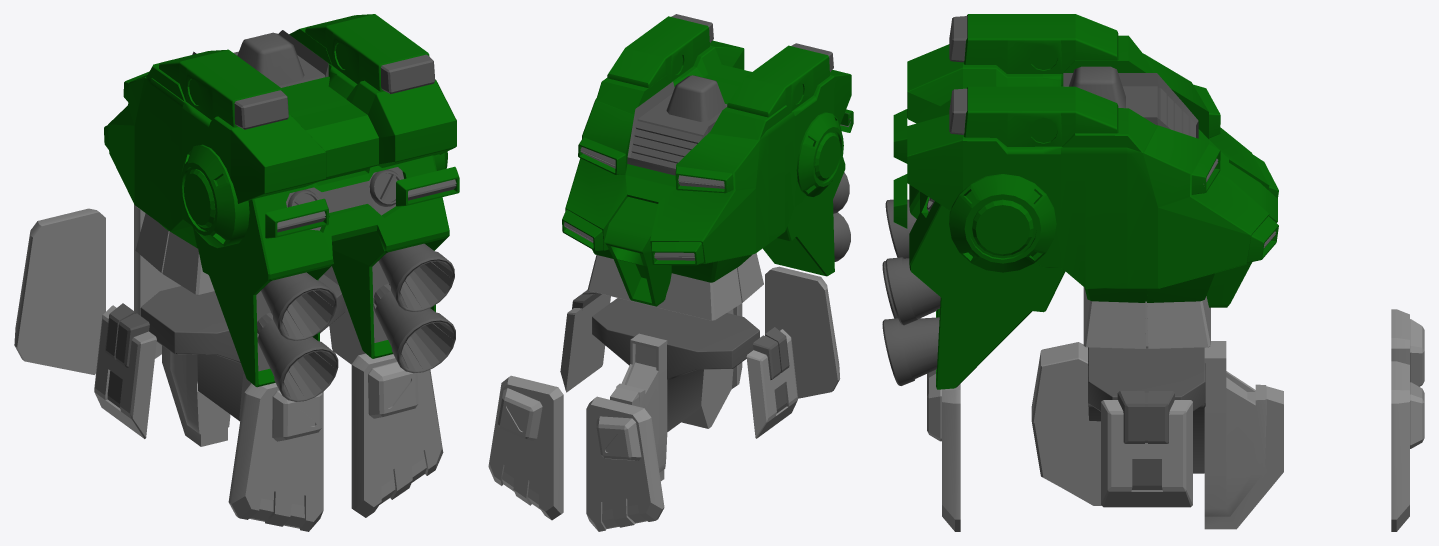
Rendered from Cardigan Torso V2.fbx.
The picture shows the model from 3 angles, left to right: view 1: azimuth 30°, elevation 25°; view 2: azimuth 150°, elevation 25°; view 3: azimuth 270°, elevation 25°; orthographic projection. The views are drawn at different scales.
Parts seen in each view (by area): view 1: polySurface358, polySurface324, polySurface331, polySurface334, polySurface275, polySurface327, polySurface277, polySurface342, polySurface341, polySurface323, polySurface328; view 2: polySurface358, polySurface275, polySurface324, polySurface323, polySurface331, polySurface327, polySurface277, polySurface328, polySurface276; view 3: polySurface358, polySurface277, polySurface328, polySurface276, polySurface275, polySurface323, polySurface334, polySurface324, polySurface341, polySurface342.
Part boxes in pixels (x1,y1,x2,y2): polySurface358: [104, 14, 456, 401]; polySurface324: [14, 208, 105, 374]; polySurface331: [228, 383, 323, 531]; polySurface334: [351, 353, 443, 517]; polySurface275: [140, 274, 345, 421]; polySurface327: [94, 303, 156, 438]; polySurface277: [162, 345, 230, 446]; polySurface342: [265, 198, 328, 238]; polySurface341: [396, 166, 459, 206]; polySurface323: [134, 204, 180, 358]; polySurface328: [324, 266, 365, 364]; polySurface358: [562, 14, 851, 320]; polySurface275: [592, 298, 759, 431]; polySurface324: [586, 396, 664, 531]; polySurface323: [488, 375, 563, 520]; polySurface331: [765, 266, 840, 398]; polySurface327: [746, 327, 797, 438]; polySurface277: [610, 333, 667, 481]; polySurface328: [560, 289, 610, 392]; polySurface276: [681, 309, 733, 428]; polySurface358: [882, 14, 1278, 389]; polySurface277: [1204, 341, 1283, 529]; polySurface328: [1101, 391, 1192, 507]; polySurface276: [1031, 342, 1101, 505]; polySurface275: [1088, 347, 1205, 473]; polySurface323: [1391, 361, 1424, 531]; polySurface334: [927, 374, 960, 531]; polySurface324: [1391, 309, 1424, 386]; polySurface341: [893, 174, 907, 228]; polySurface342: [893, 109, 907, 163].
Bounding box in the file's own units: 11.68 × 19.96 × 21.3.
